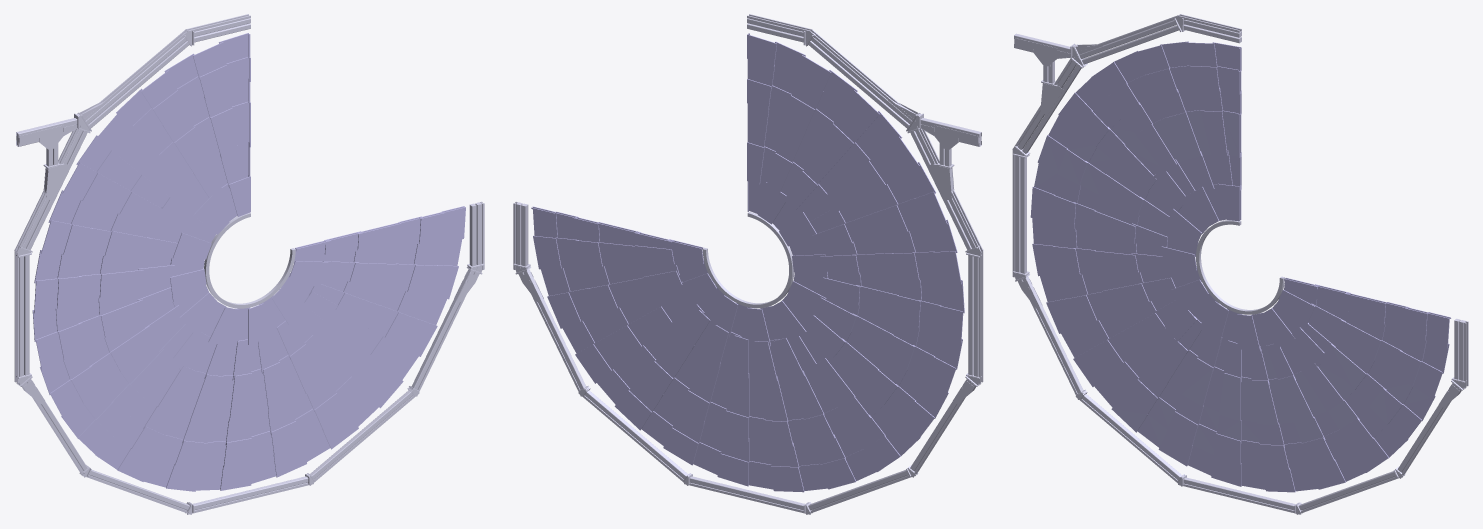
The model's file is TGC2-SideC-cut3.glb.
3 renders of one model, left to right at view 1: azimuth 30°, elevation 25°; view 2: azimuth 150°, elevation 25°; view 3: azimuth 330°, elevation 25°, orthographic. The views are drawn at different scales.
Visible parts, largest first — view 1: S__25D59A38, S__04373BE8; view 2: S__25D59A38, S__04373BE8; view 3: S__25D59A38, S__04373BE8.
Boxes of the visible parts, x1,y1,x2,y2 form: S__25D59A38: (32, 33, 465, 491); S__04373BE8: (14, 14, 484, 514); S__25D59A38: (531, 33, 964, 492); S__04373BE8: (513, 14, 983, 514); S__25D59A38: (1030, 41, 1451, 492); S__04373BE8: (1012, 14, 1468, 514).
Size of the model in its own units: 25.89 by 25.65 by 0.4084.
